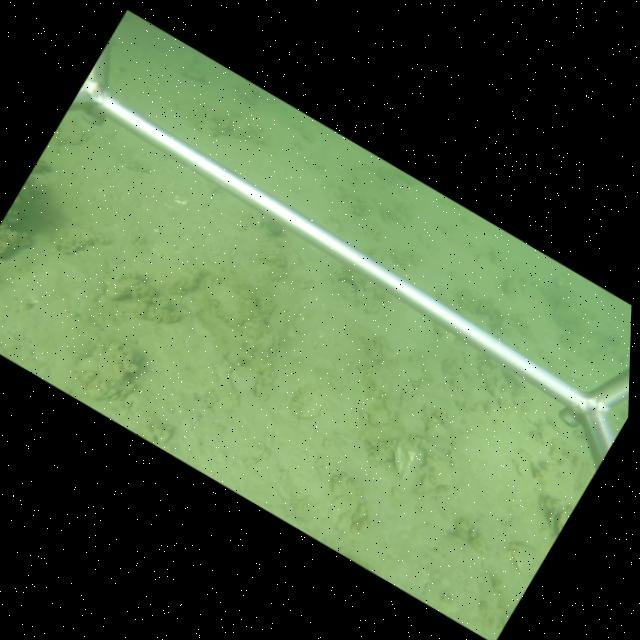Oyster-Closed: (391, 439, 410, 480), (105, 282, 140, 300)
Oyster-Indeterminate: (75, 354, 133, 404)
Oyster-Open: (547, 505, 569, 539)
